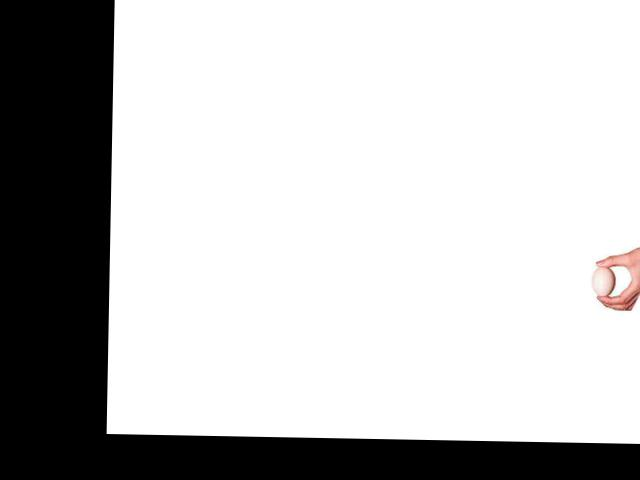egg: (592, 265, 616, 296)
